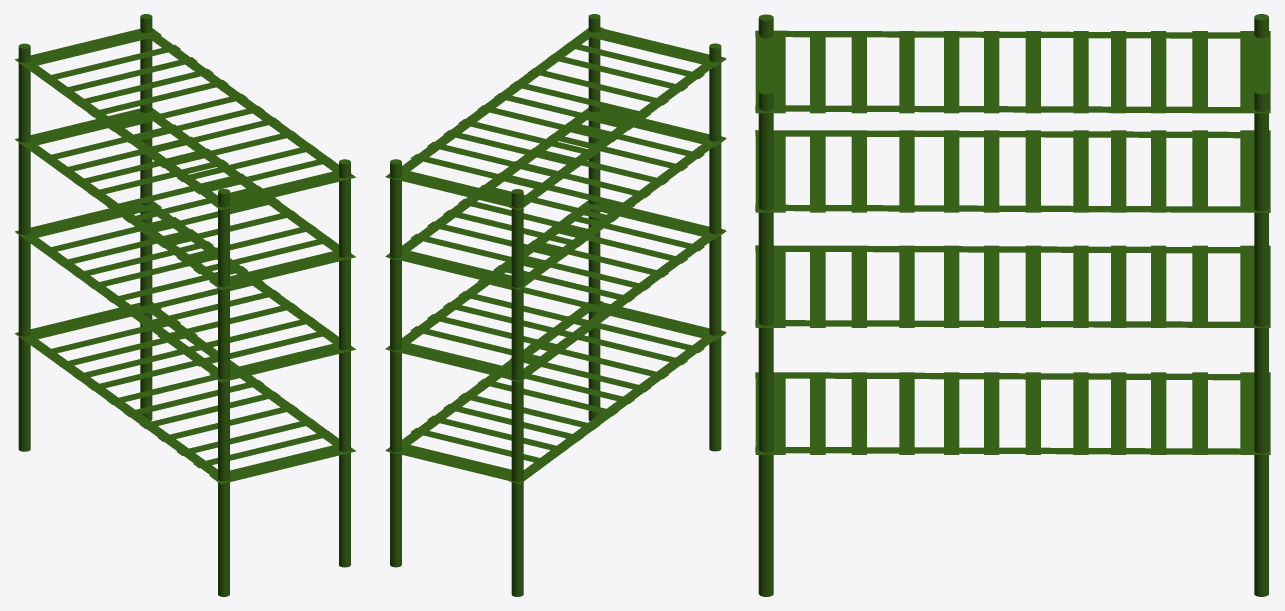
The model's file is shelf.fbx.
3 views of the same model, side by side, from view 1: azimuth 30°, elevation 25°; view 2: azimuth 150°, elevation 25°; view 3: azimuth 270°, elevation 25° (orthographic). The views are drawn at different scales.
Visible parts, largest first — view 1: Cylinder.003, Cylinder, Cylinder.001, Cylinder.002, Plane.018, Plane.050, Plane.013, Plane.045, Plane.012, Plane.051, Plane.019, Plane.044 (+56 smaller); view 2: Cylinder.003, Cylinder, Cylinder.002, Cylinder.001, Plane.018, Plane.050, Plane.013, Plane.045, Plane.012, Plane.019, Plane.051, Plane.044 (+56 smaller); view 3: Cylinder.001, Cylinder.002, Plane.012, Plane.044, Plane.019, Plane.051, Plane.018, Plane.045, Plane.050, Plane.013, Plane.004, Plane.010 (+48 smaller).
Boxes of the visible parts, x1,y1,x2,y2 form: Cylinder.003: [18, 43, 30, 451]; Cylinder: [218, 189, 229, 596]; Cylinder.001: [339, 159, 350, 567]; Cylinder.002: [140, 14, 152, 420]; Plane.018: [17, 141, 232, 289]; Plane.050: [16, 334, 232, 483]; Plane.013: [17, 61, 232, 209]; Plane.045: [18, 234, 232, 381]; Plane.012: [149, 35, 355, 179]; Plane.051: [149, 309, 354, 453]; Plane.019: [154, 118, 355, 259]; Plane.044: [149, 208, 354, 351]; Cylinder.003: [511, 189, 523, 596]; Cylinder: [709, 43, 721, 451]; Cylinder.002: [390, 159, 401, 567]; Cylinder.001: [588, 14, 600, 420]; Plane.018: [509, 136, 725, 290]; Plane.050: [509, 330, 725, 484]; Plane.013: [509, 56, 725, 210]; Plane.045: [509, 229, 725, 382]; Plane.012: [387, 27, 603, 180]; Plane.019: [387, 107, 602, 260]; Plane.051: [386, 301, 603, 454]; Plane.044: [386, 200, 597, 352]; Cylinder.001: [758, 88, 773, 596]; Cylinder.002: [1254, 88, 1268, 596]; Plane.012: [755, 105, 1240, 113]; Plane.044: [755, 320, 1240, 327]; Plane.019: [755, 204, 1269, 212]; Plane.051: [755, 446, 1240, 454]; Plane.018: [755, 130, 1240, 138]; Plane.045: [755, 245, 1240, 253]; Plane.050: [755, 372, 1240, 380]; Plane.013: [755, 30, 1240, 38]; Plane.004: [1073, 31, 1088, 113]; Plane.010: [1192, 31, 1207, 113].
Size of the model in its own units: 0.9062 by 2.58 by 2.39.
